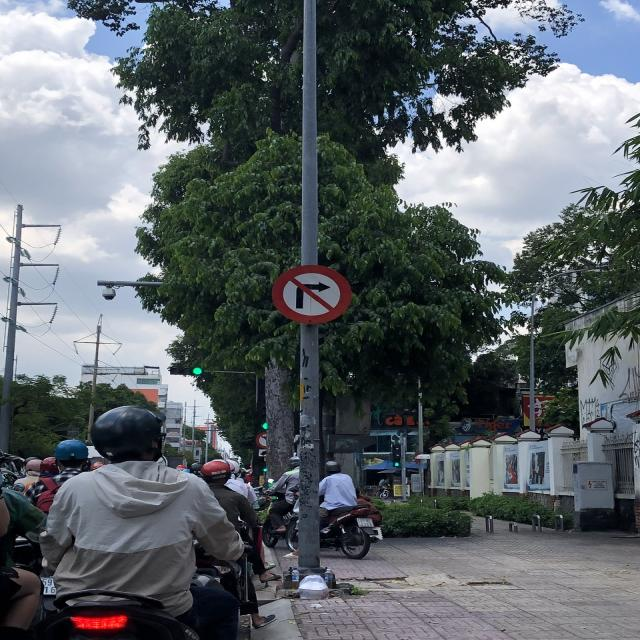Bien bao cam re phai: (270, 257, 357, 325)
